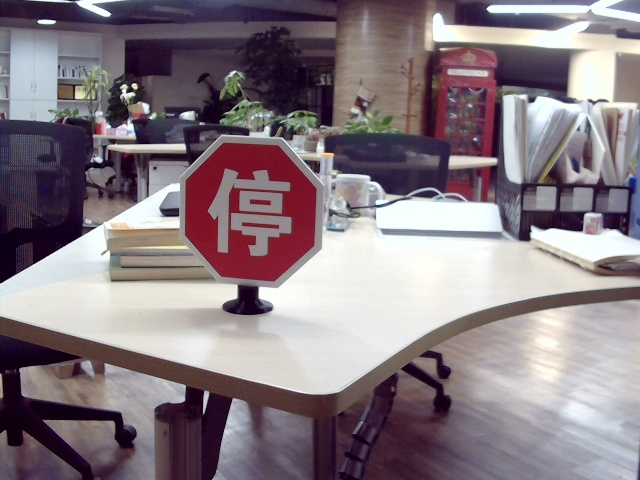stop: (201, 165, 293, 259)
